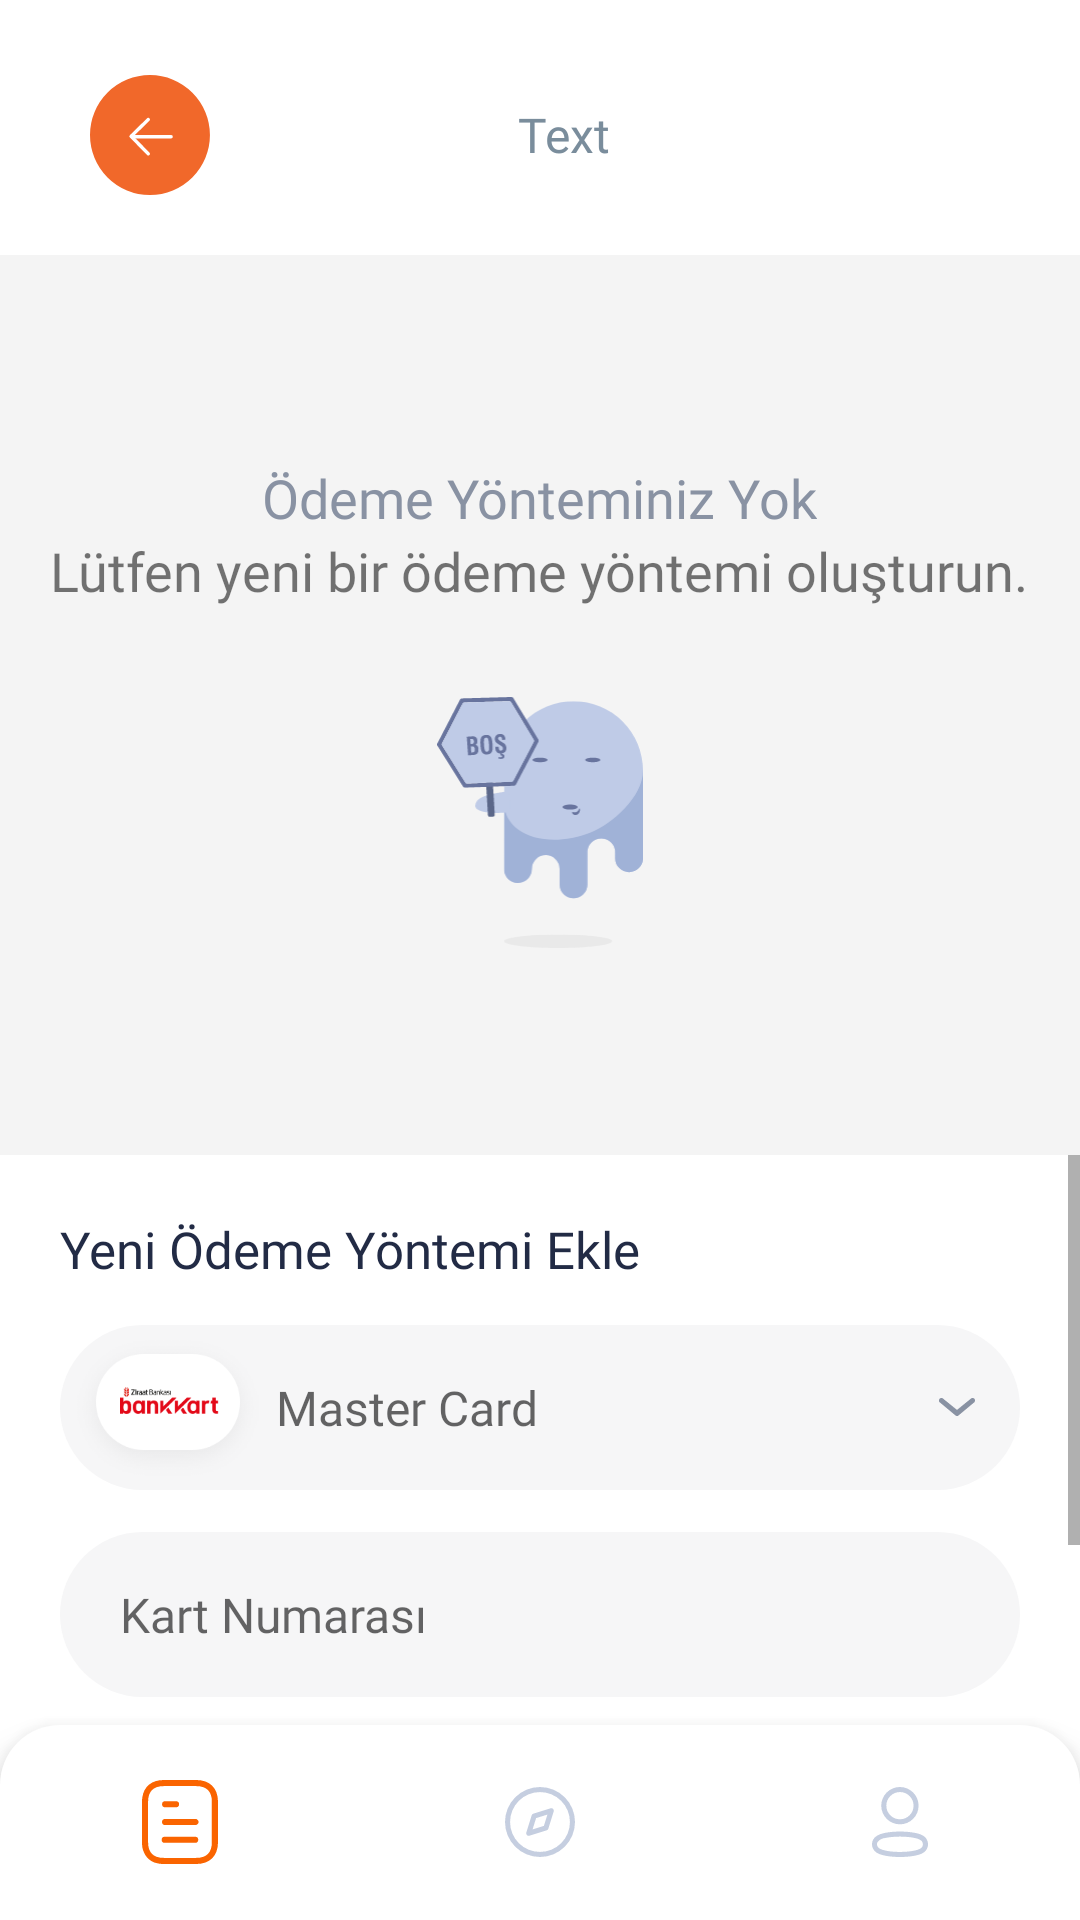

Icons on this 1080x1920 Android screen, each with the point to tap as (x=x, y=y):
back: (x=150, y=135)
